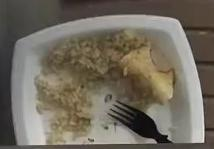pizza_crust: (120, 38, 173, 103)
rice: (34, 28, 176, 143)
